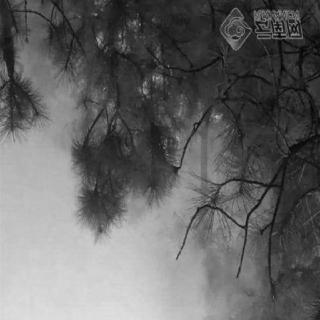Fire: (74, 6, 226, 206)
